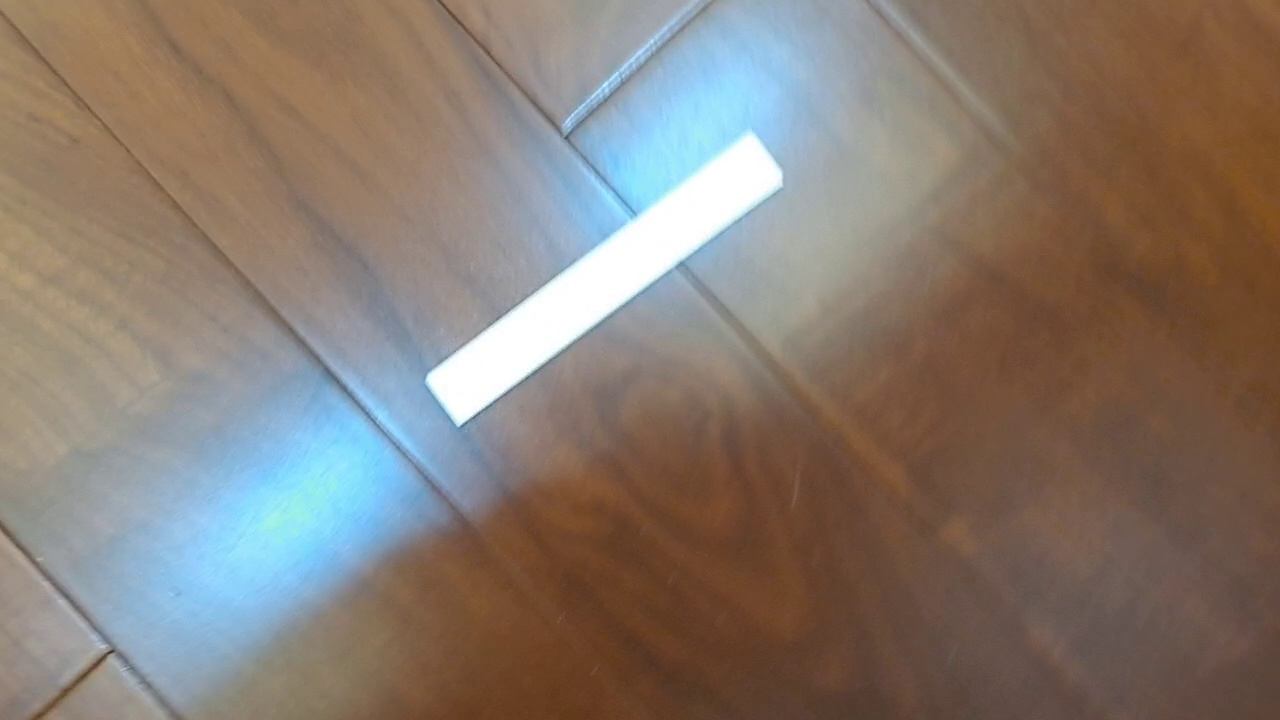ruler: (422, 124, 785, 430)
